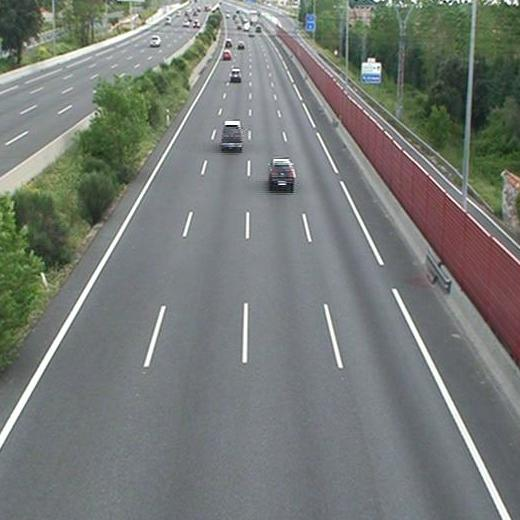car: (269, 159, 295, 187), (221, 121, 243, 148), (230, 69, 241, 81), (221, 50, 231, 60), (225, 40, 232, 50), (237, 42, 245, 50)
